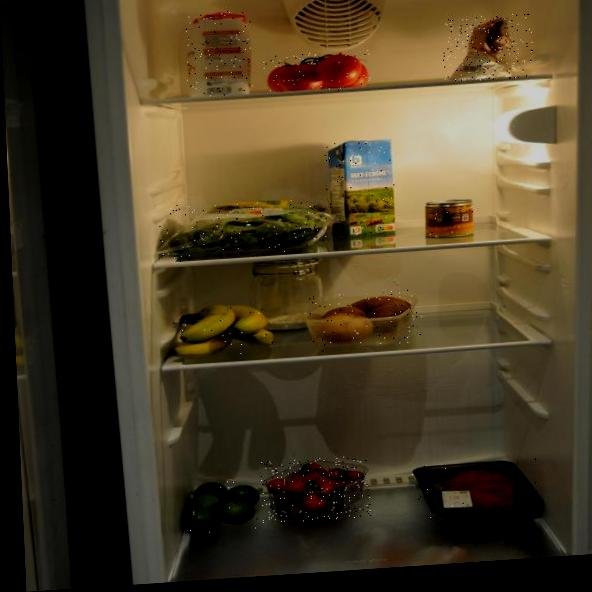banana: (169, 300, 275, 361)
beef: (411, 457, 545, 526)
corn: (425, 197, 475, 240)
flour: (245, 255, 331, 338), (441, 12, 534, 83)
lime: (182, 479, 261, 534)
milk: (324, 137, 397, 239)
potato: (308, 288, 424, 352)
spinach: (156, 194, 335, 263)
strawberries: (260, 455, 371, 524)
sugar: (184, 9, 254, 98)
tomato: (262, 48, 374, 96)
